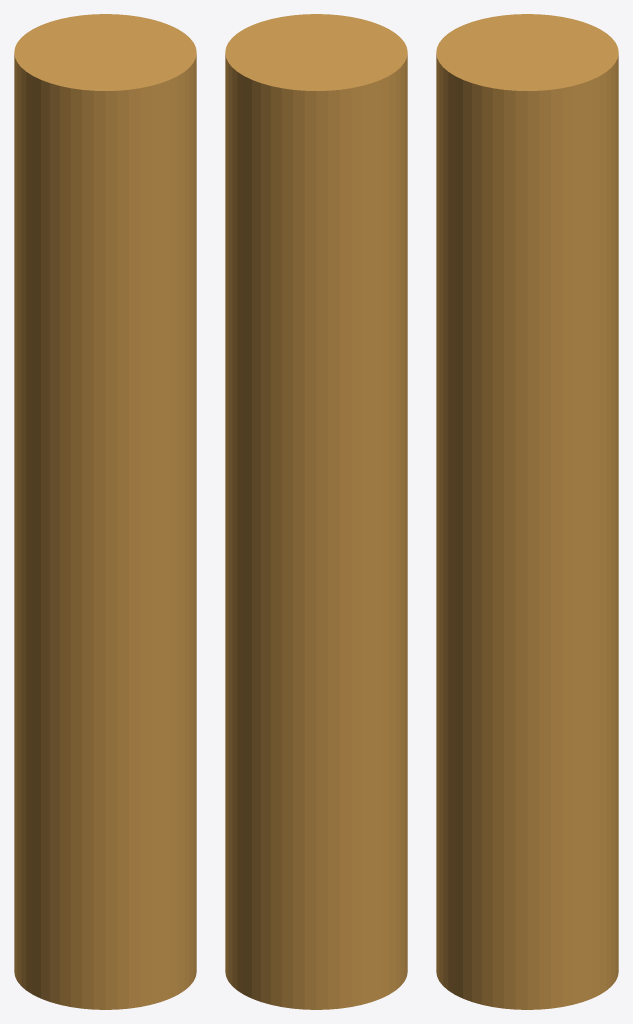
Rendered from 100mm-hole.glb.
3 renders of one model, left to right at view 1: azimuth 30°, elevation 25°; view 2: azimuth 150°, elevation 25°; view 3: azimuth 270°, elevation 25°, orthographic.
Visible parts, largest first — view 1: Mesh_Mesh_head_geo.001_lambert2SG.009; view 2: Mesh_Mesh_head_geo.001_lambert2SG.009; view 3: Mesh_Mesh_head_geo.001_lambert2SG.009.
Boxes of the visible parts, left/top/right/bottom form: Mesh_Mesh_head_geo.001_lambert2SG.009: left=14, top=14, right=196, bottom=1009; Mesh_Mesh_head_geo.001_lambert2SG.009: left=225, top=14, right=407, bottom=1009; Mesh_Mesh_head_geo.001_lambert2SG.009: left=436, top=14, right=618, bottom=1009.
Size of the model in its own units: 0.18 by 1 by 0.18.
